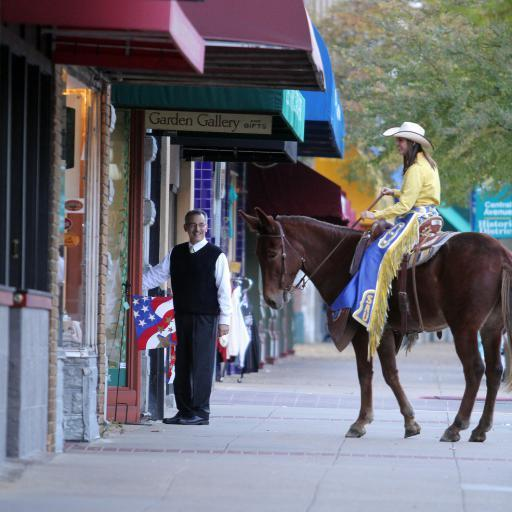horse: (237, 208, 512, 443)
